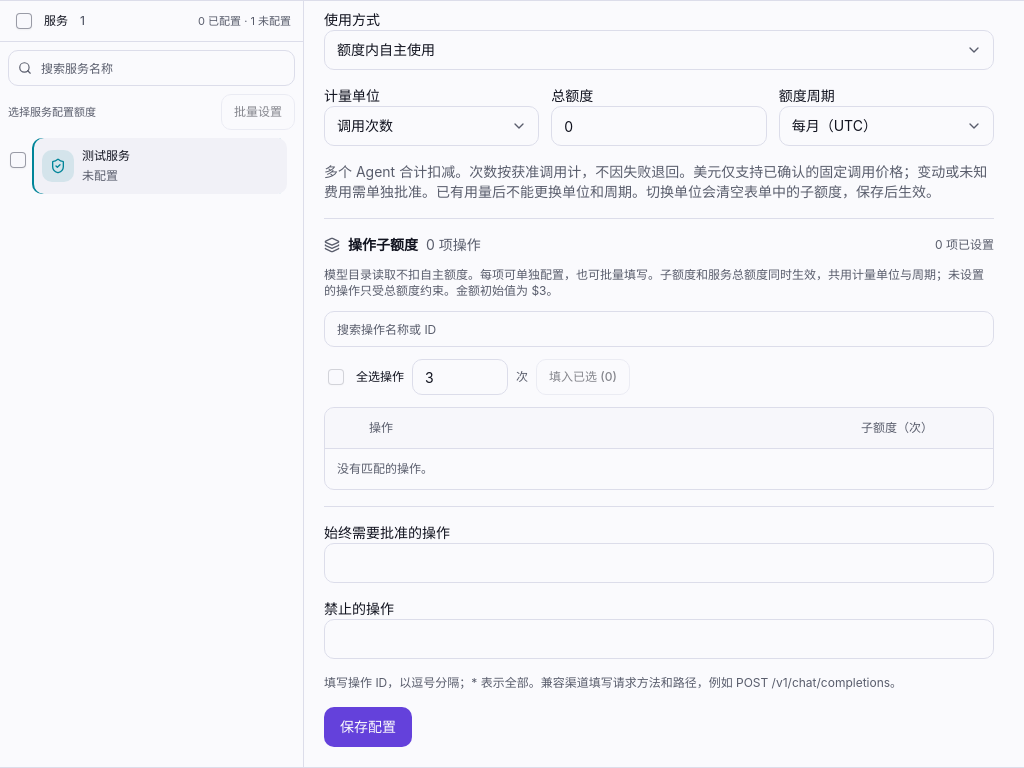
Scenario: reports persistence failure without showing success
(page scrolled)
Click the button "保存配置" at x=368, y=726, box [324, 706, 412, 746]
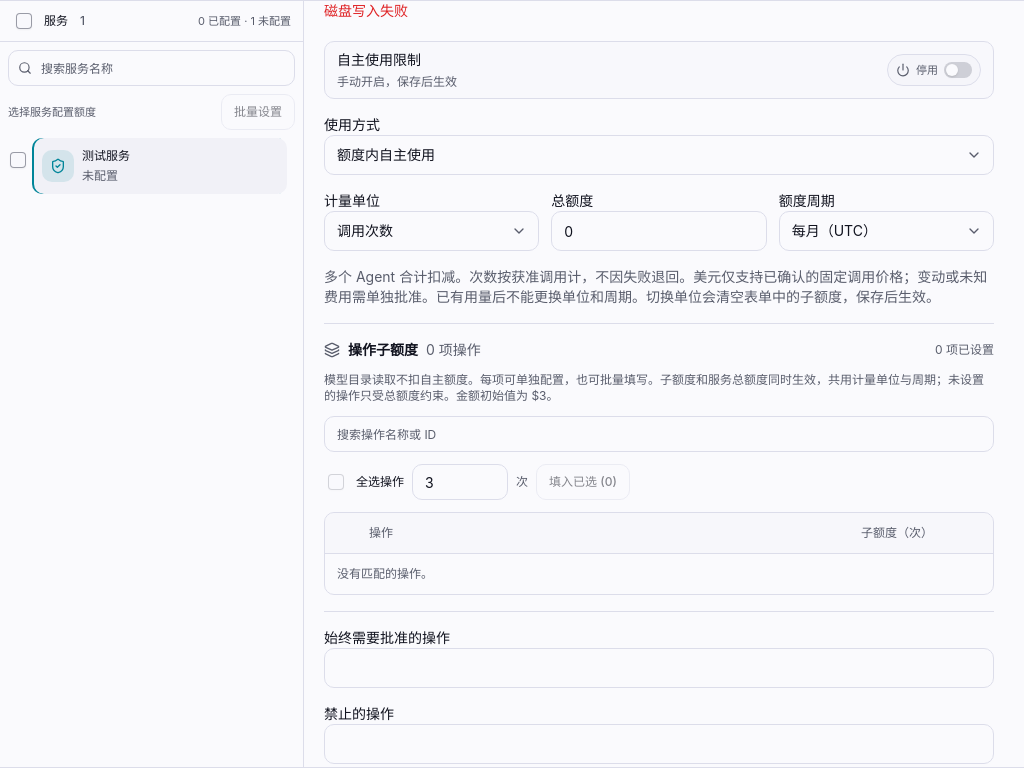
Now the message reads "磁盘写入失败", box [324, 2, 408, 19]
